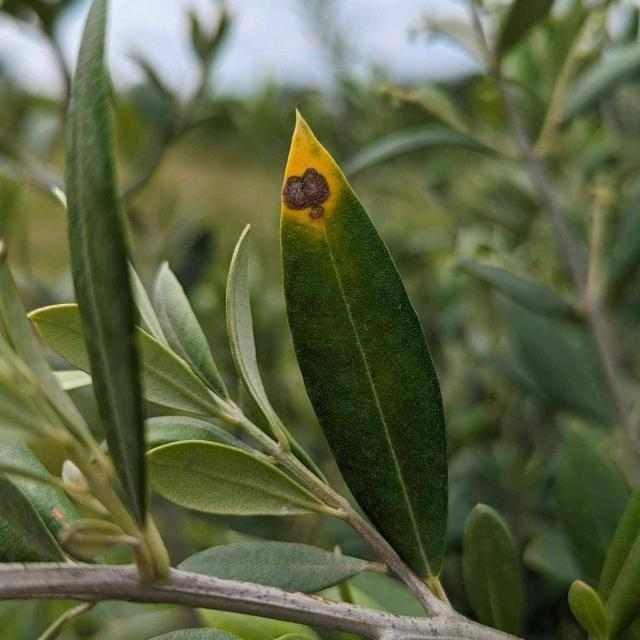OlivePeacockSpot: (280, 111, 448, 604)
